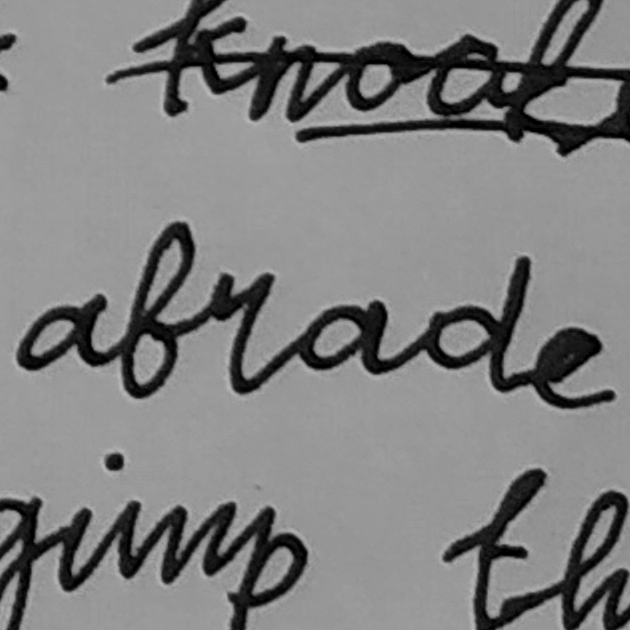a: (288, 293, 394, 381), (11, 289, 110, 376)
b: (113, 214, 200, 400)
d: (417, 250, 533, 397)
e: (527, 317, 621, 414)
r: (202, 265, 281, 401)
